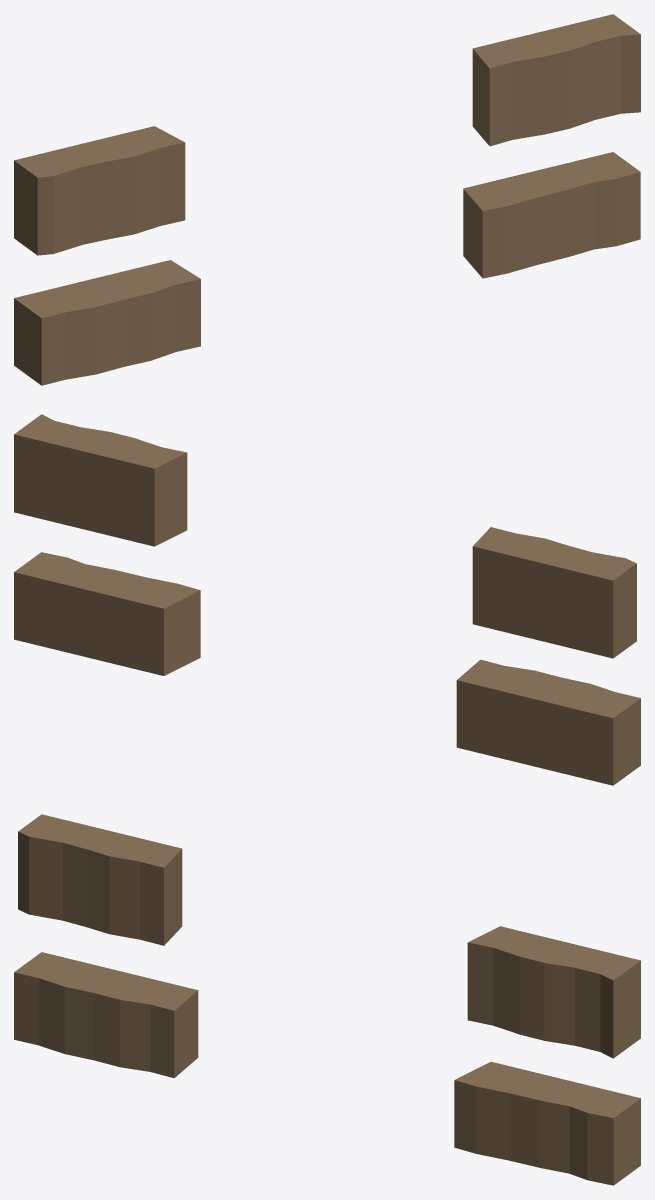
Rendered from HokageCliff_HokageRockDark.fbx.
3 views of the same model, one above another, from view 1: azimuth 30°, elevation 25°; view 2: azimuth 150°, elevation 25°; view 3: azimuth 330°, elevation 25° (orthographic).
Parts seen in each view (by area): view 1: Cliff-1_1.001; view 2: Cliff-1_1.001; view 3: Cliff-1_1.001.
Part boxes in pixels (x1=…): Cliff-1_1.001: x1=14, y1=14, x2=640, y2=385; Cliff-1_1.001: x1=14, y1=414, x2=640, y2=785; Cliff-1_1.001: x1=14, y1=814, x2=640, y2=1185.
Size of the model in its own units: 15600 by 5103 by 1341.
